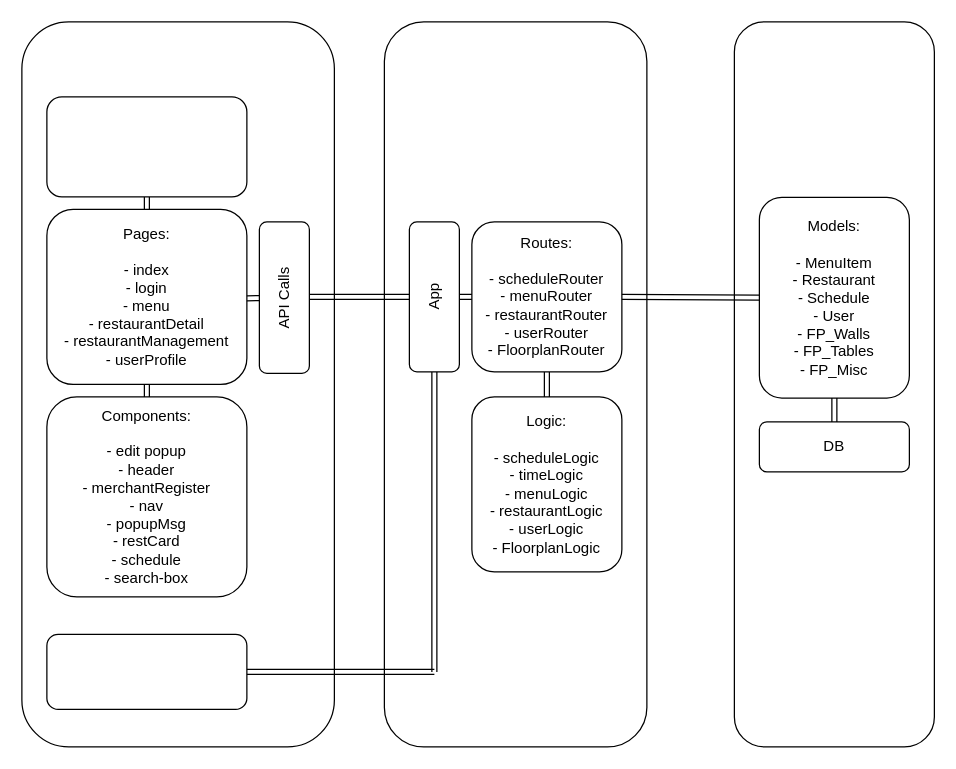
Some shapes in this 956 by 769 pixel diagram are drawn without their labels. Here are the shapes that lost their labels. From the top down, the box of each, then its label:
(46, 96, 247, 197): Logic: - aggregate - format utilities
(383, 21, 647, 747): Business Layer
(733, 21, 934, 747): Data Layer
(46, 633, 247, 709): Command Line Interface
